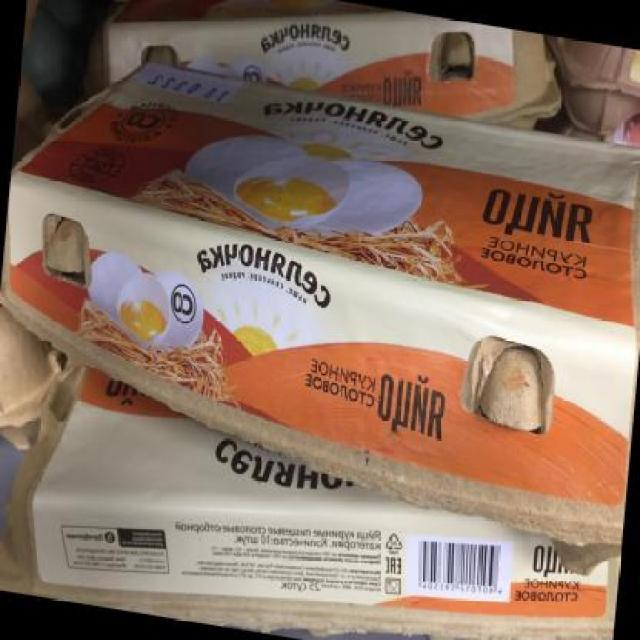Egg: (0, 49, 640, 551), (80, 0, 563, 142), (540, 35, 640, 151)
